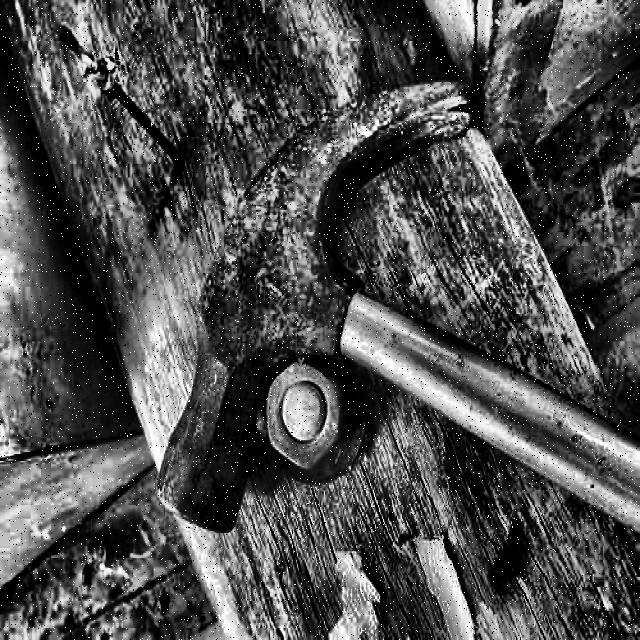hammer: (157, 77, 639, 538)
